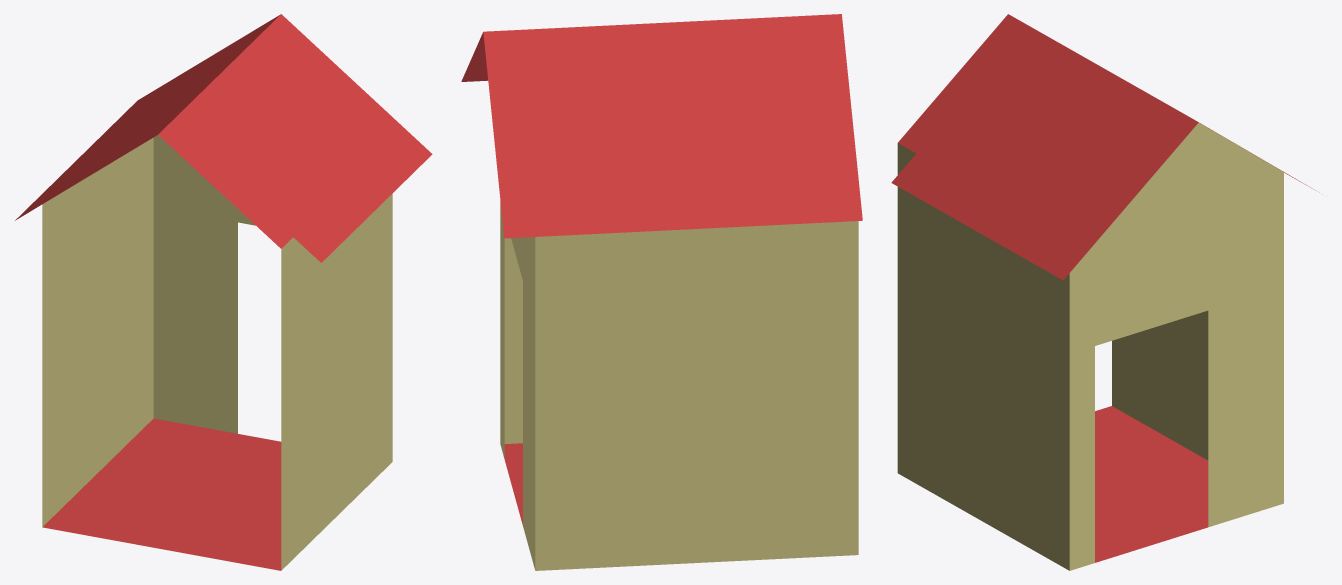
The picture shows the model from 3 angles, left to right: view 1: azimuth 30°, elevation 25°; view 2: azimuth 150°, elevation 25°; view 3: azimuth 270°, elevation 25°; orthographic projection. The views are drawn at different scales.
Bounding box in the file's own units: 10.85 × 10.45 × 11.21.
